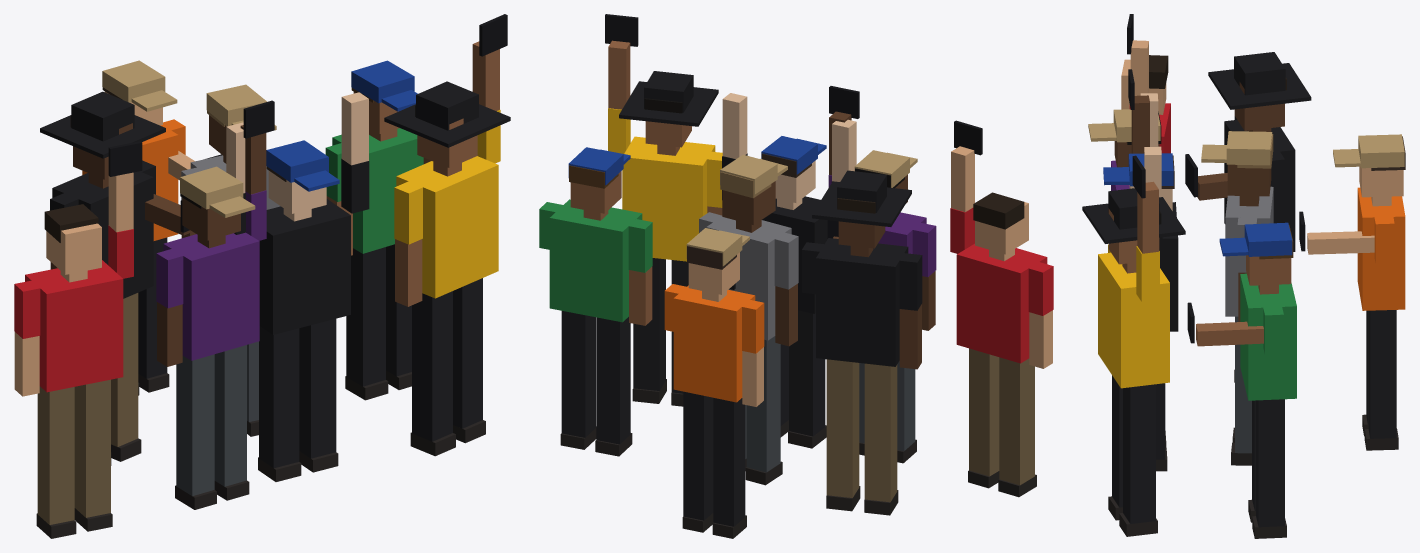
File: crowd_h.dae
3 views of the same model, side by side, from view 1: azimuth 30°, elevation 25°; view 2: azimuth 150°, elevation 25°; view 3: azimuth 270°, elevation 25° (orthographic). The views are drawn at different scales.
Visible parts, largest first — view 1: marker; view 2: marker; view 3: marker.
Part boxes in pixels (<box>): marker: <box>14,14,510,538</box>; marker: <box>539,14,1053,538</box>; marker: <box>1082,14,1405,538</box>.
Size of the model in its own units: 2.78 by 1.7 by 2.21.
